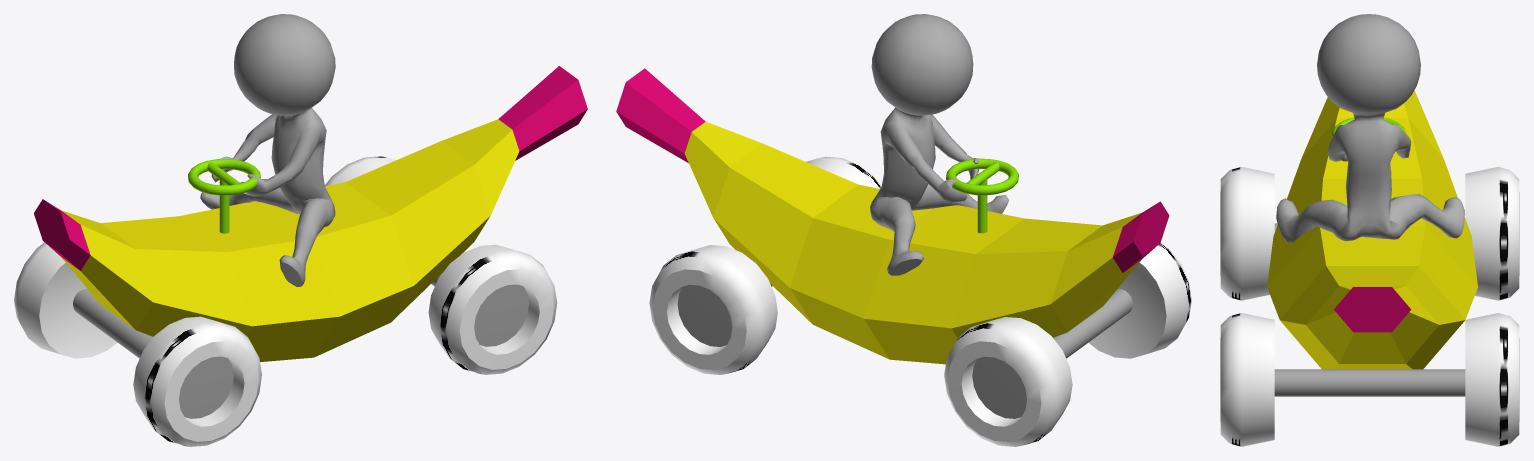
File: banana.fbx
3 views of the same model, side by side, from view 1: azimuth 30°, elevation 25°; view 2: azimuth 150°, elevation 25°; view 3: azimuth 270°, elevation 25° (orthographic).
Parts seen in each view (by area): view 1: pasted__polySurface2253; view 2: pasted__polySurface2253; view 3: pasted__polySurface2253.
Part boxes in pixels (box(x1,y1,x2,y2)): pasted__polySurface2253: box(14, 14, 587, 446); pasted__polySurface2253: box(616, 14, 1191, 446); pasted__polySurface2253: box(1220, 14, 1519, 446).
Size of the model in its own units: 349 by 221 by 172.
6 materials, 1 textured.
